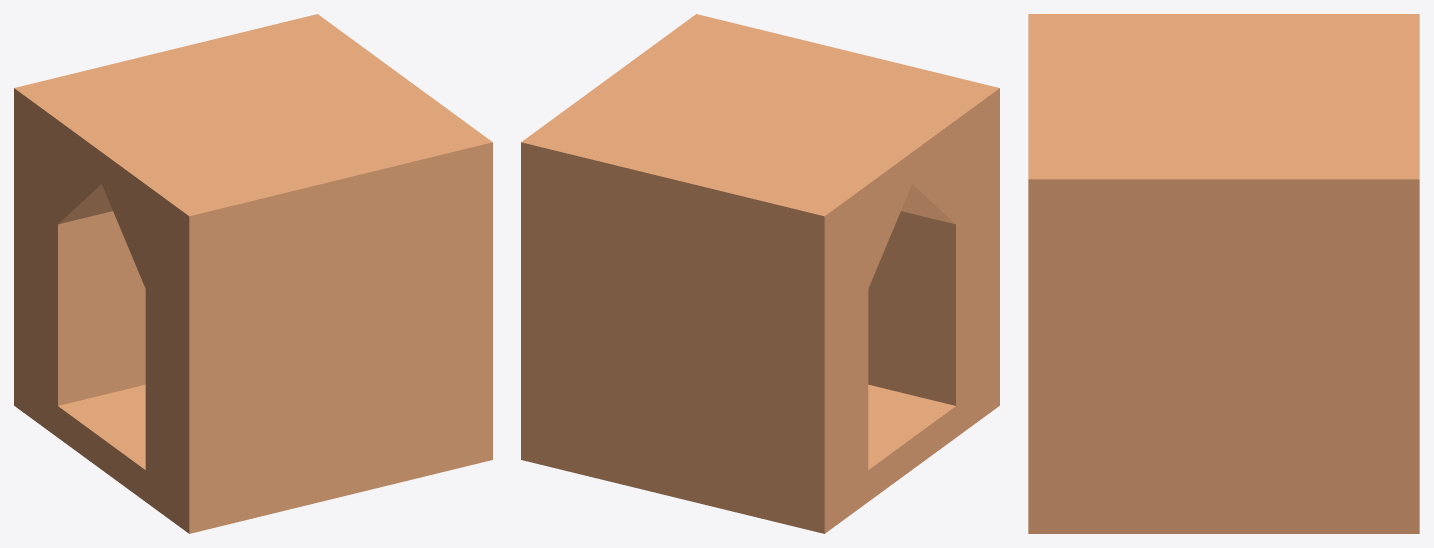
The model's file is Ground_003.fbx.
3 renders of one model, left to right at view 1: azimuth 30°, elevation 25°; view 2: azimuth 150°, elevation 25°; view 3: azimuth 270°, elevation 25°, orthographic. The views are drawn at different scales.
Visible parts, largest first — view 1: Ground.003; view 2: Ground.003; view 3: Ground.003.
Boxes of the visible parts, <box> form: Ground.003: <box>14,14,492,533</box>; Ground.003: <box>521,14,999,533</box>; Ground.003: <box>1028,14,1419,533</box>.
Bounding box in the file's own units: 100 × 100 × 100.
